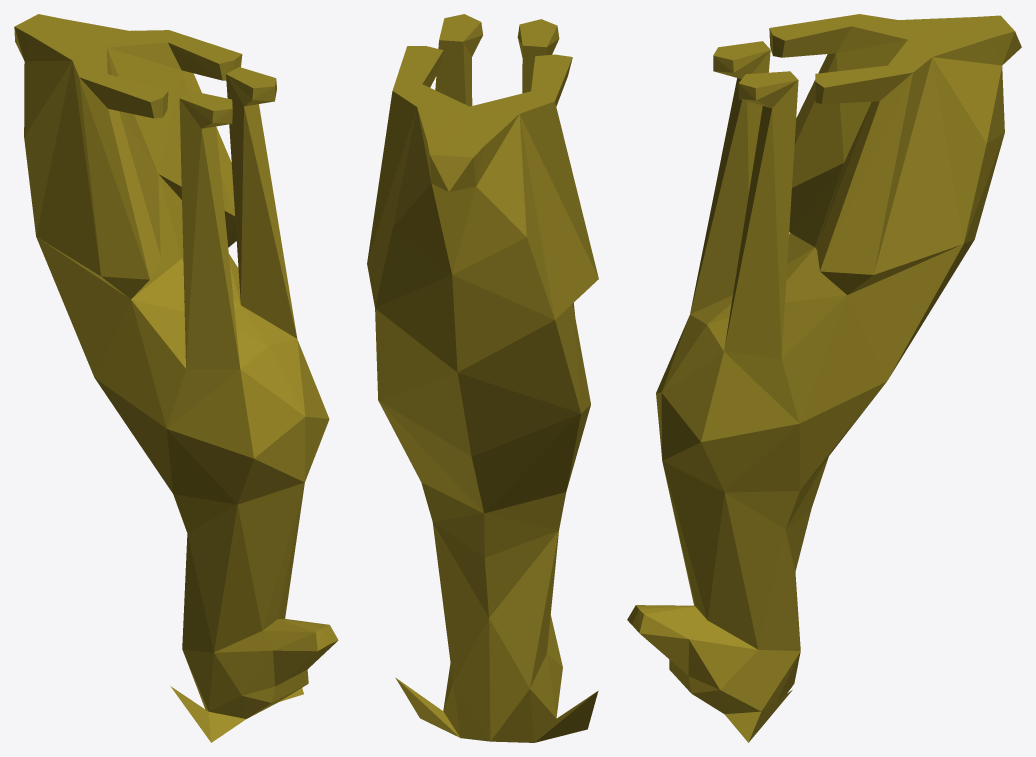
Rendered from Chien.fbx.
The picture shows the model from 3 angles, left to right: view 1: azimuth 30°, elevation 25°; view 2: azimuth 150°, elevation 25°; view 3: azimuth 270°, elevation 25°; orthographic projection. The views are drawn at different scales.
Parts seen in each view (by area): view 1: Plane003; view 2: Plane003; view 3: Plane003.
Boxes of the visible parts, x1=… form: Plane003: x1=14, y1=14, x2=338, y2=742; Plane003: x1=367, y1=14, x2=598, y2=742; Plane003: x1=627, y1=14, x2=1021, y2=742.
Size of the model in its own units: 214 by 648 by 361.
